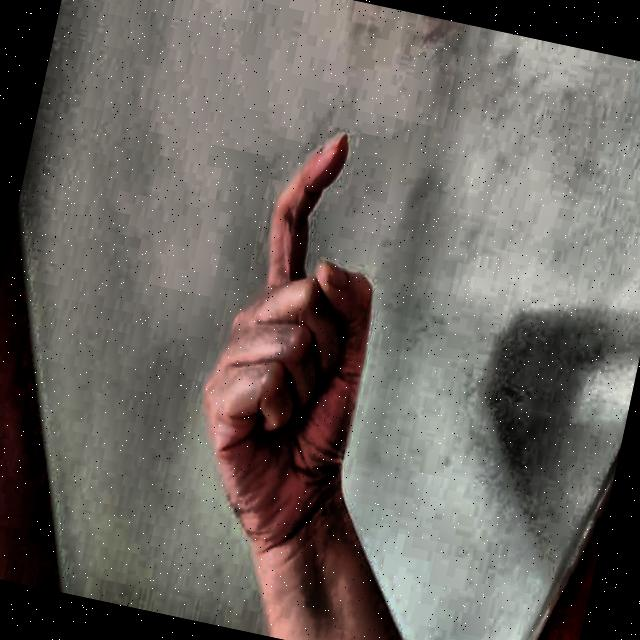E: (153, 95, 465, 555)
